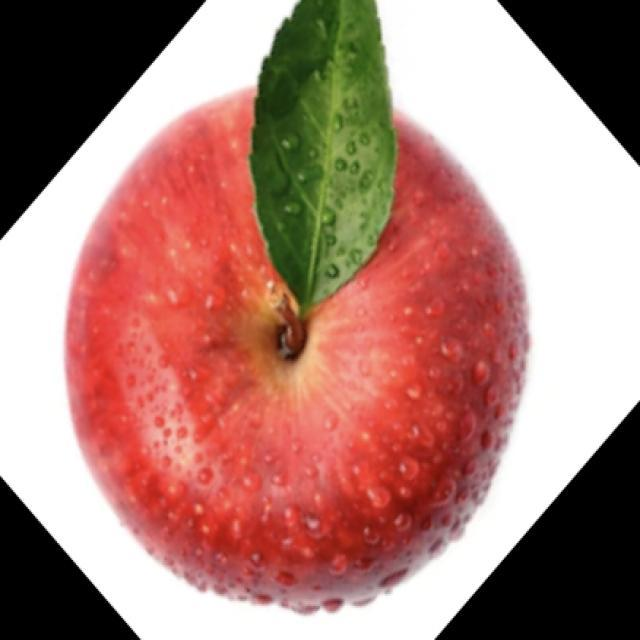Fresh Apple: (63, 68, 532, 612)
